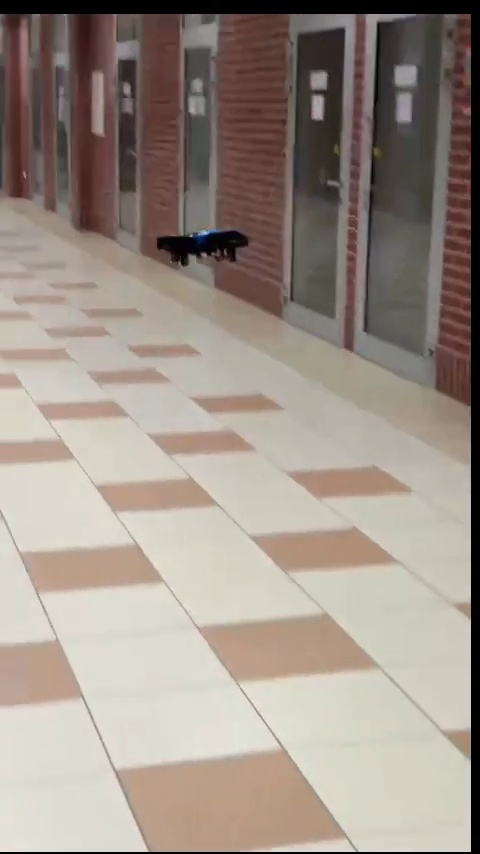drone: (159, 231, 243, 262)
